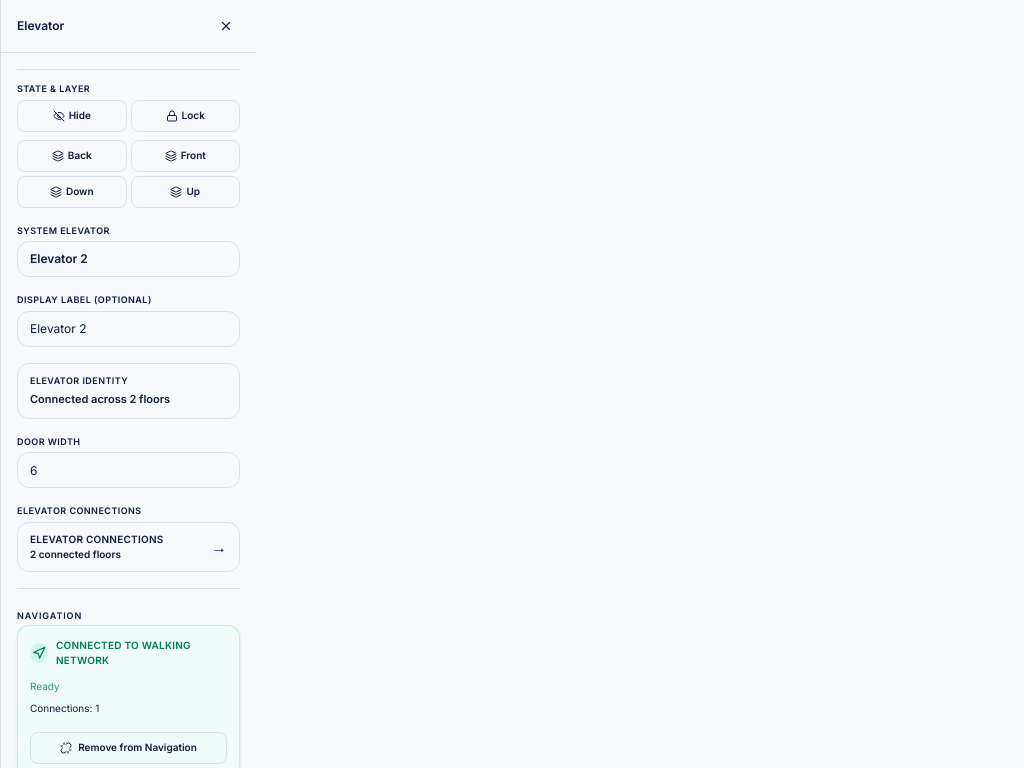
Test case: Elevator authoring connections › disables an occurrence already owned by another Elevator identity when changing an established shaft
This screenshot has width=1024, height=768.
Click the button with test id "circulation-group-trigger-elevator" at (128, 547), box [17, 522, 240, 572]
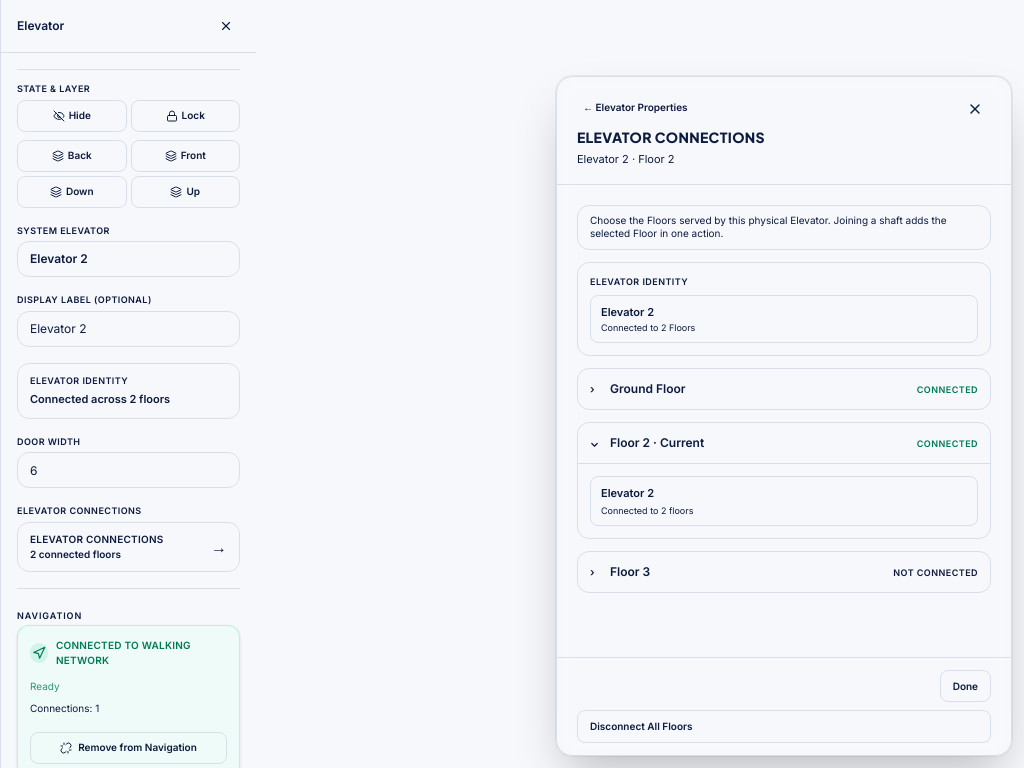
Click the button with test id "elevator-floor-toggle-f3" at (630, 572), box [578, 552, 990, 592]
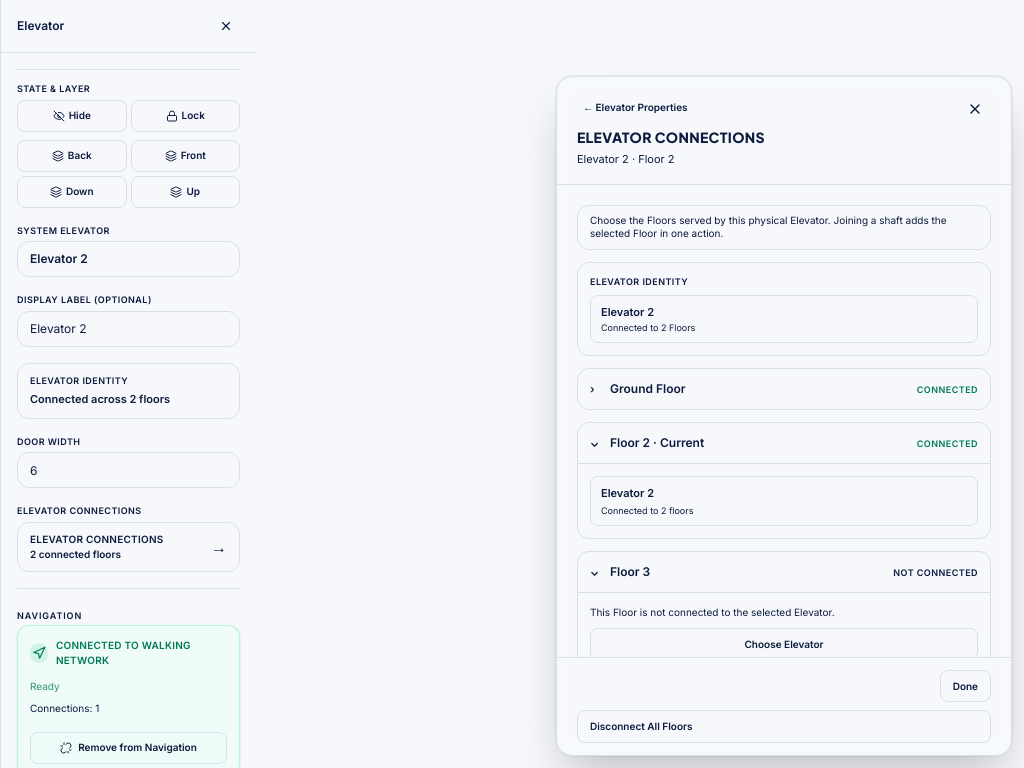
Click the button "Choose Elevator" at (784, 644), box [590, 628, 978, 660]
(page scrolled)
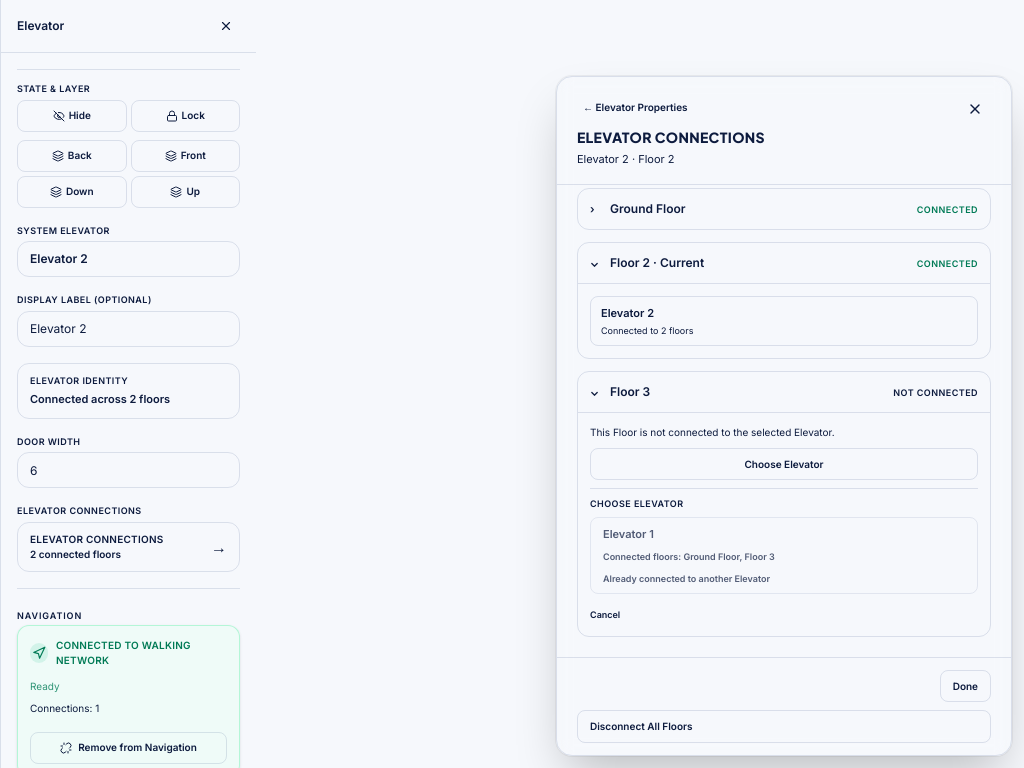
Expected: the button "Already connected to another Elevator" is disabled, [590, 517, 978, 594]
